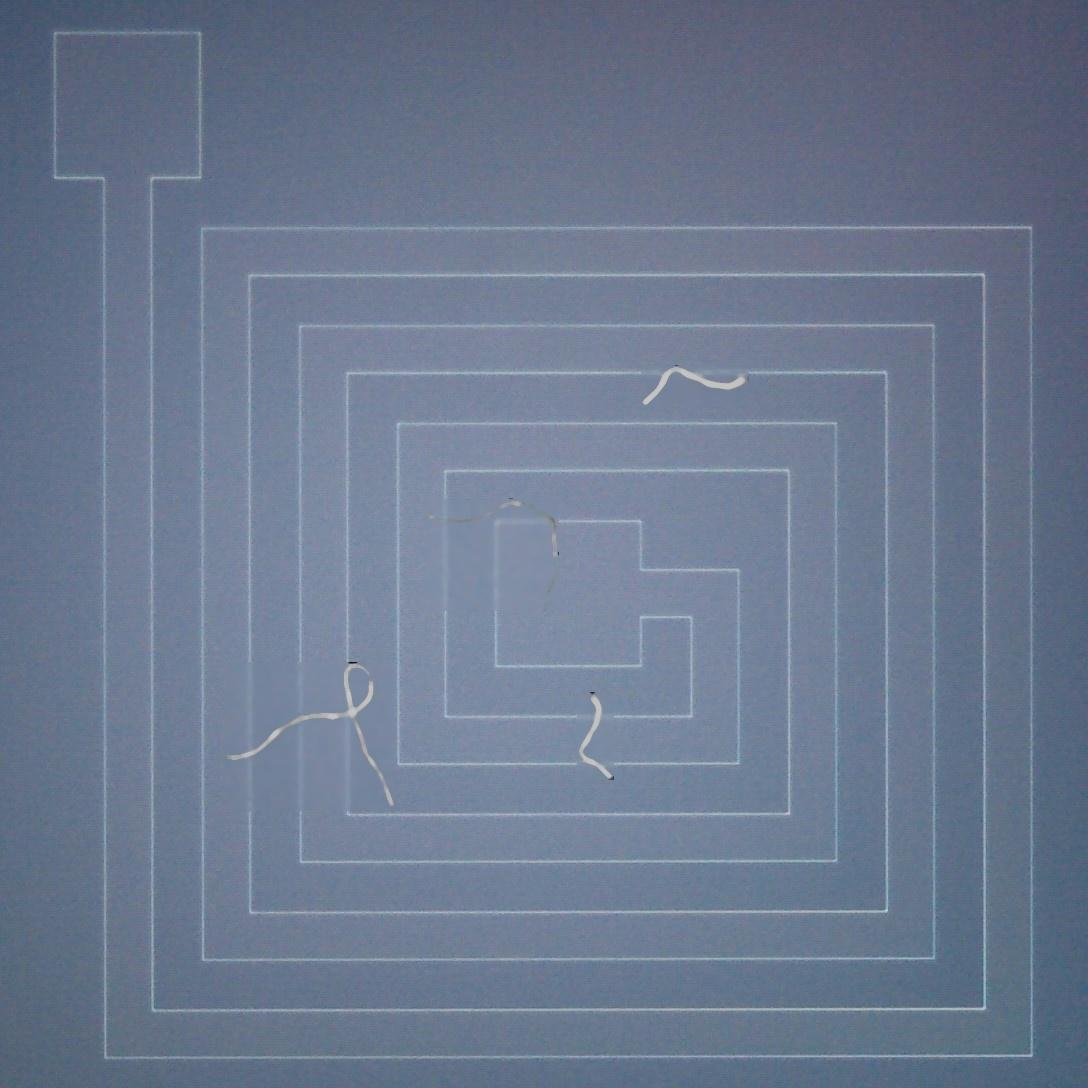foreign: (221, 653, 404, 820), (478, 488, 571, 561), (642, 361, 756, 412), (577, 690, 617, 789)
